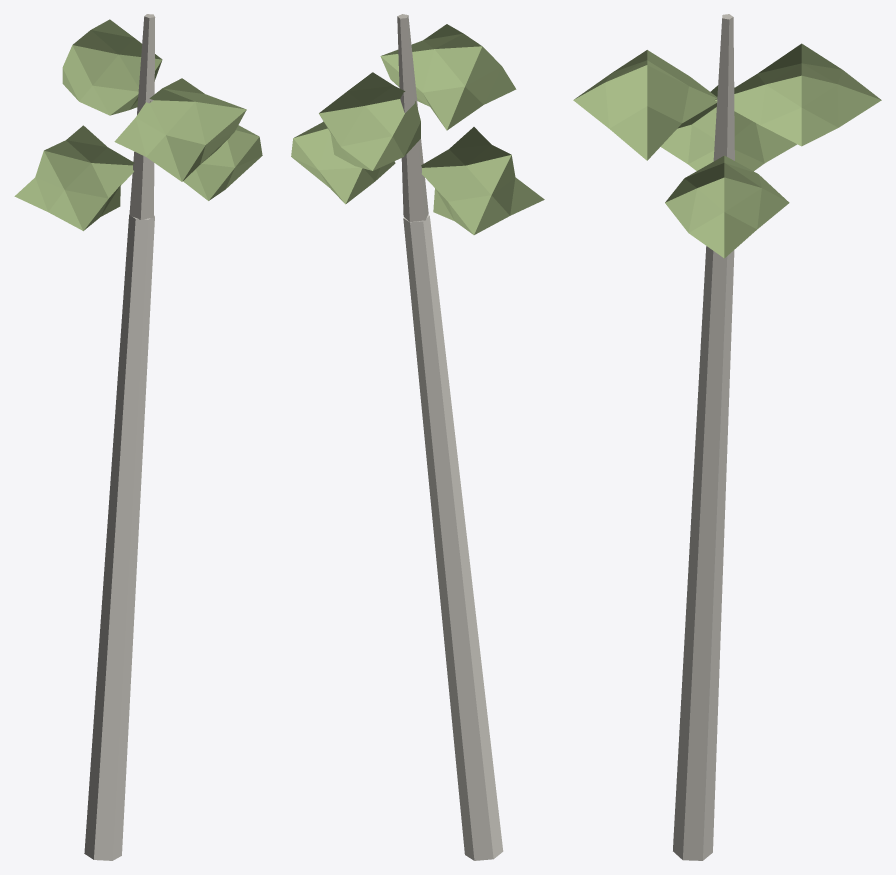
File: birch_v27.glb
The picture shows the model from 3 angles, left to right: view 1: azimuth 30°, elevation 25°; view 2: azimuth 150°, elevation 25°; view 3: azimuth 270°, elevation 25°; orthographic projection. The views are drawn at different scales.
Parts seen in each view (by area): view 1: lod0; view 2: lod0; view 3: lod0.
Part boxes in pixels (x1=…): lod0: x1=14, y1=14, x2=262, y2=860; lod0: x1=291, y1=14, x2=544, y2=860; lod0: x1=573, y1=14, x2=881, y2=860.
Size of what is drawn, in the model's own units: 1.96 by 6.21 by 2.
